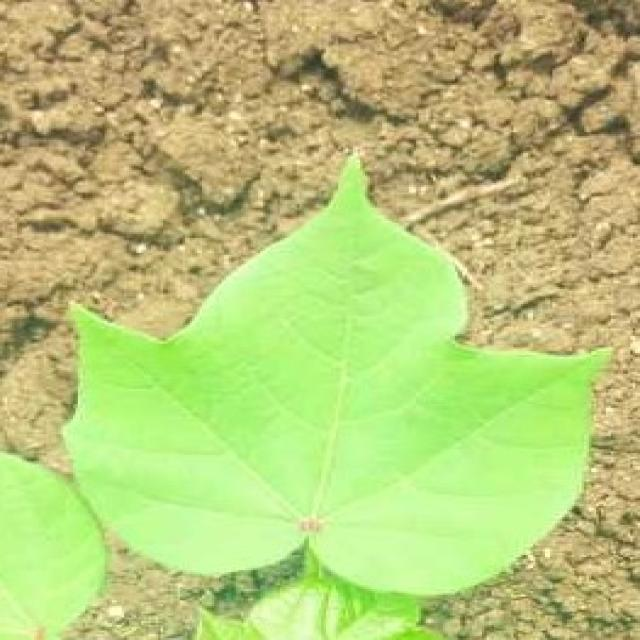Healthy Leaf: (100, 331, 516, 558)
